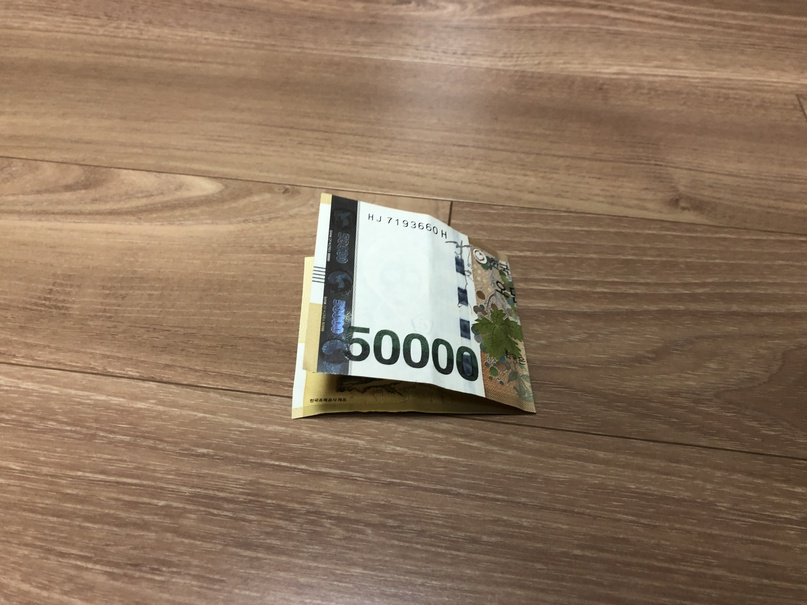50000won: (290, 191, 537, 419)
